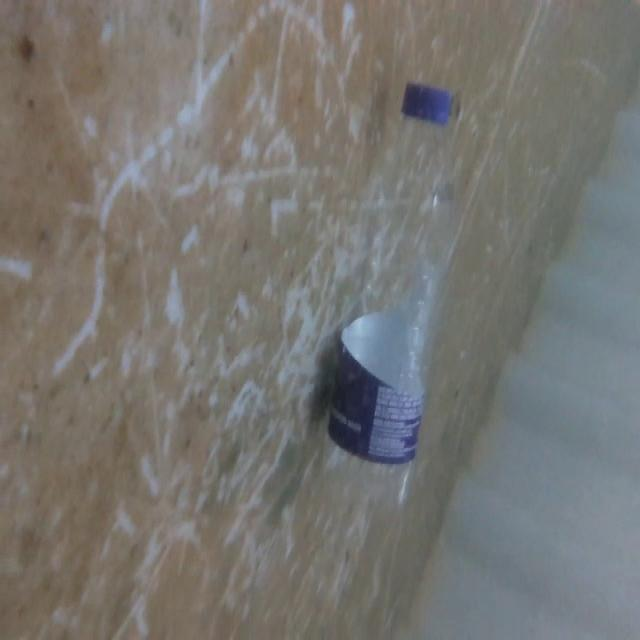plastic bottle: (310, 68, 463, 521)
